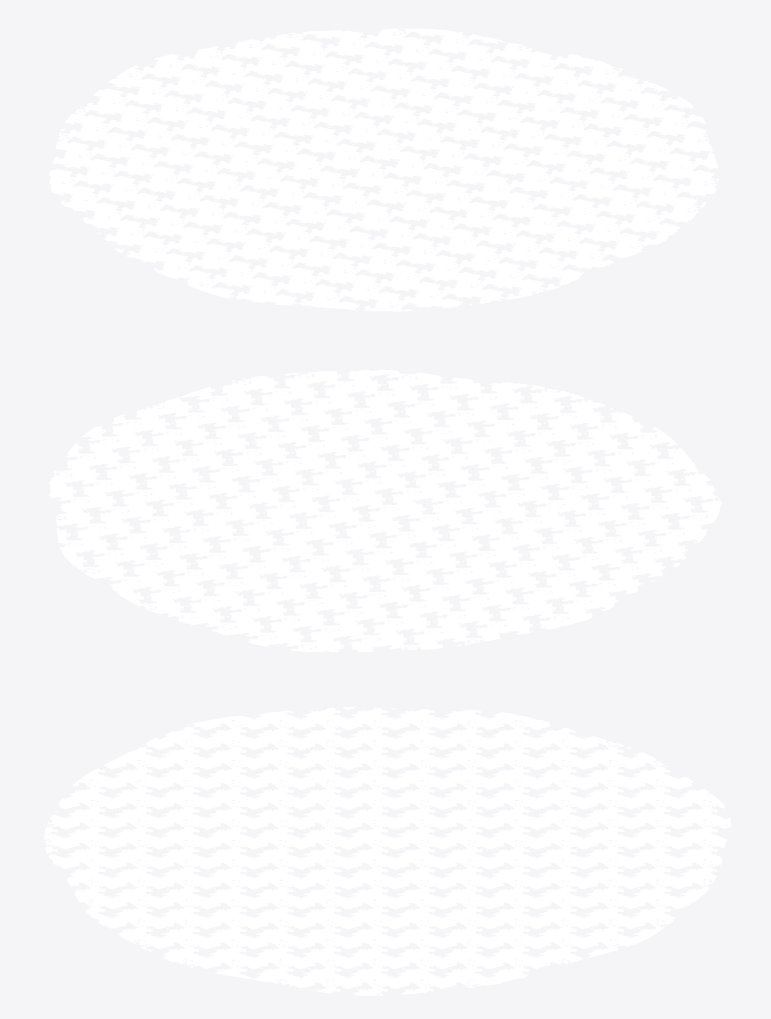
The model's file is snow_dust3.glb.
The picture shows the model from 3 angles, top to bottom: view 1: azimuth 30°, elevation 25°; view 2: azimuth 150°, elevation 25°; view 3: azimuth 270°, elevation 25°; orthographic projection. The views are drawn at different scales.
Bounding box in the file's own units: 139 × 0.1069 × 142.
1 material, 1 textured.
